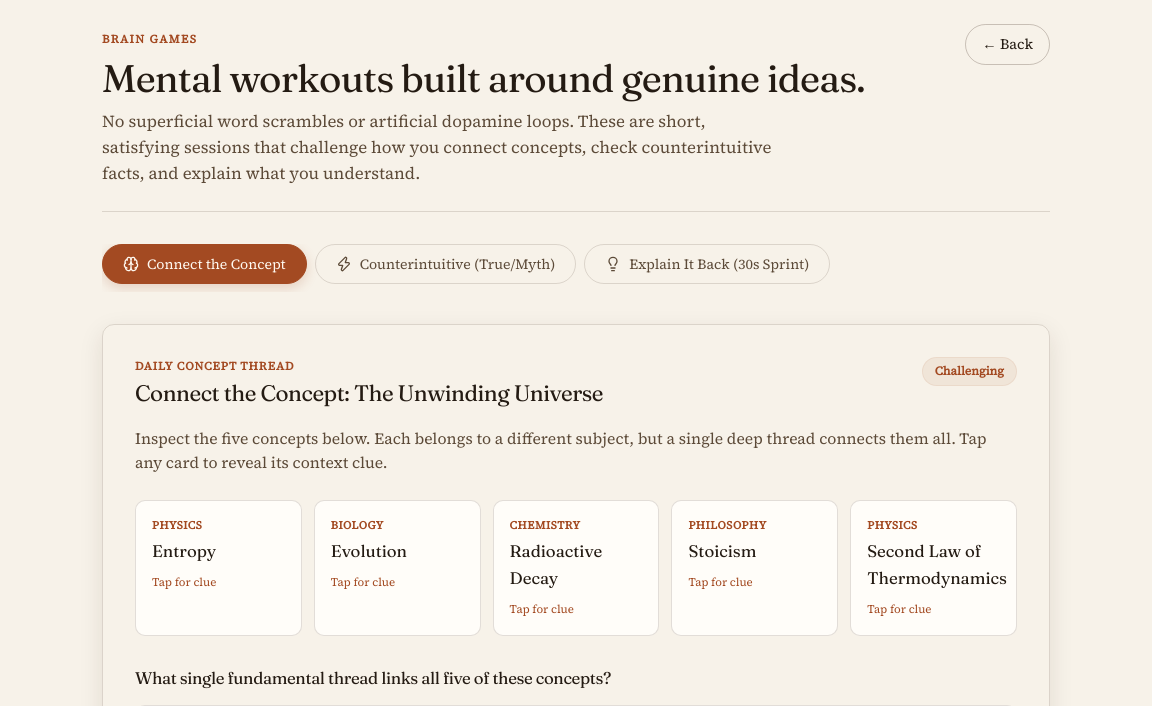
Test: Brain Games › says plainly when nothing has been written for this term yet
The image size is (1152, 706).
Click the tab "Explain It Back (30s Sprint)": (707, 264) [584,244,830,284]
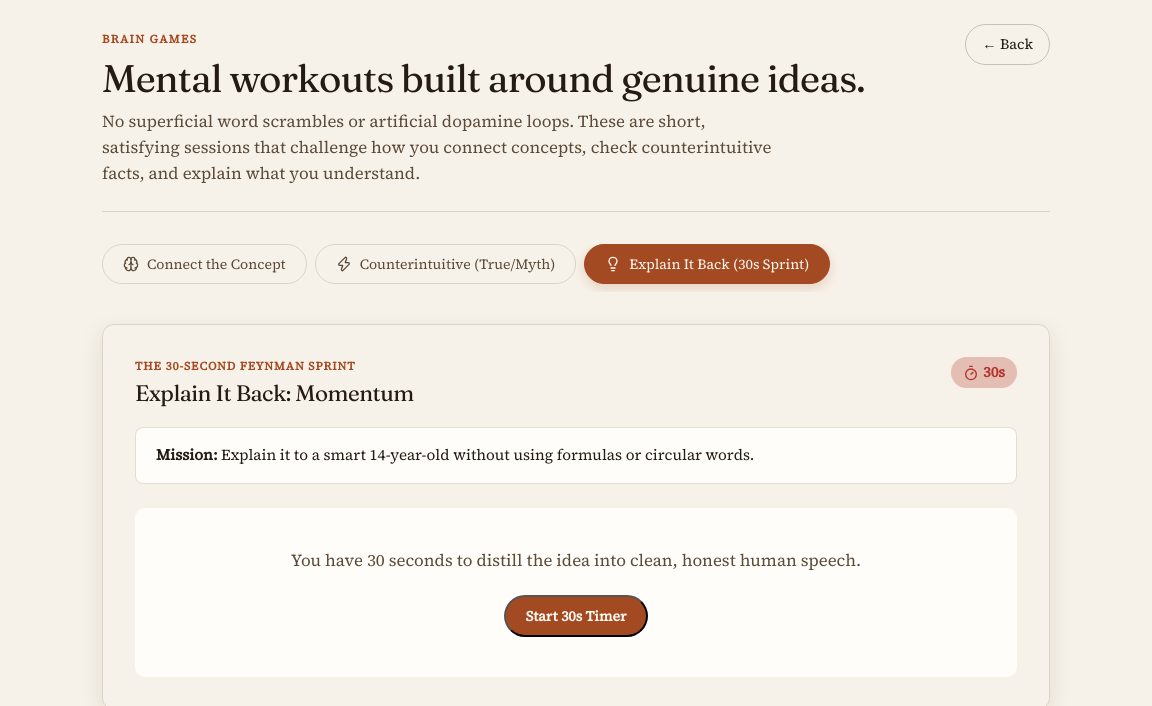
Click the button "Start 30s Timer": (576, 616) [504,595,648,637]
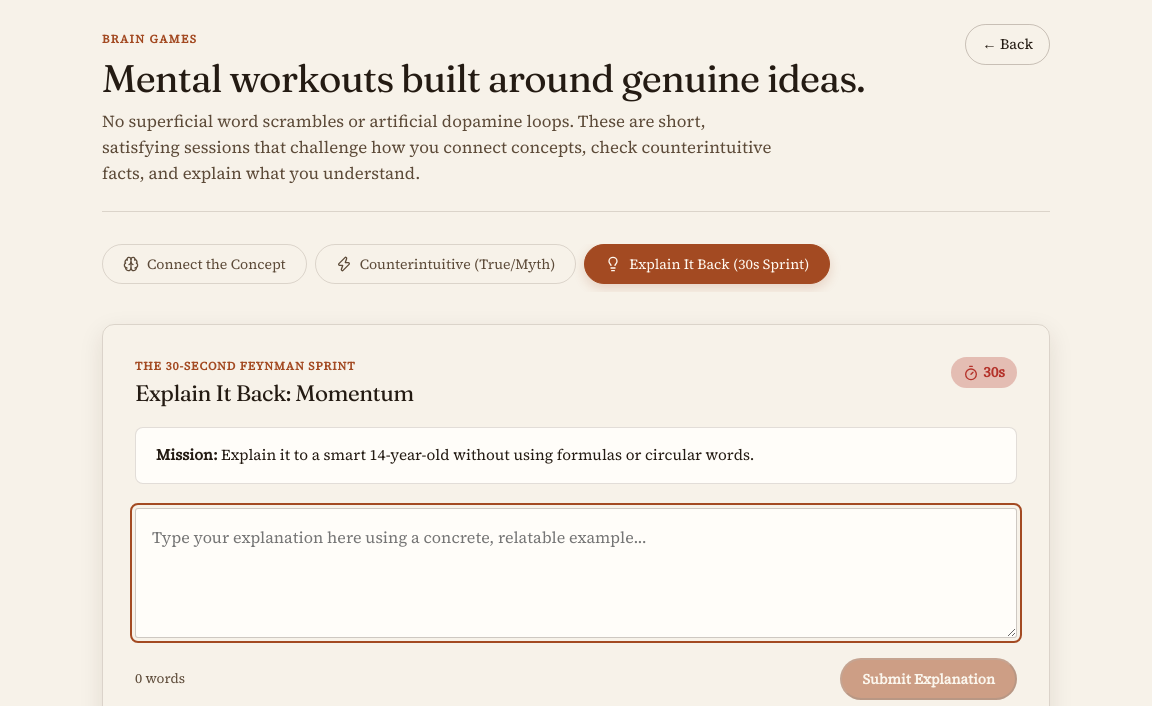
Replace the text in the text box named "your concept explanation" with "A first attempt at explaining this one in plain words.": (576, 573) [135,508,1017,638]
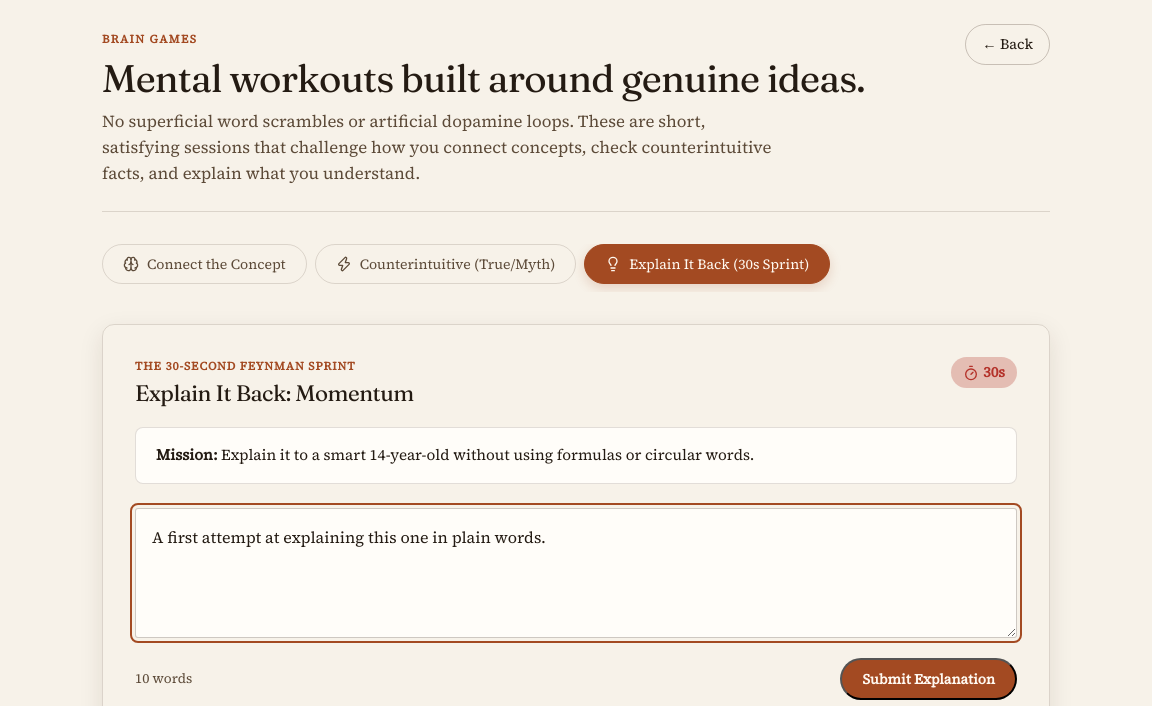
Click the button "Submit Explanation": (929, 679) [840,658,1017,700]
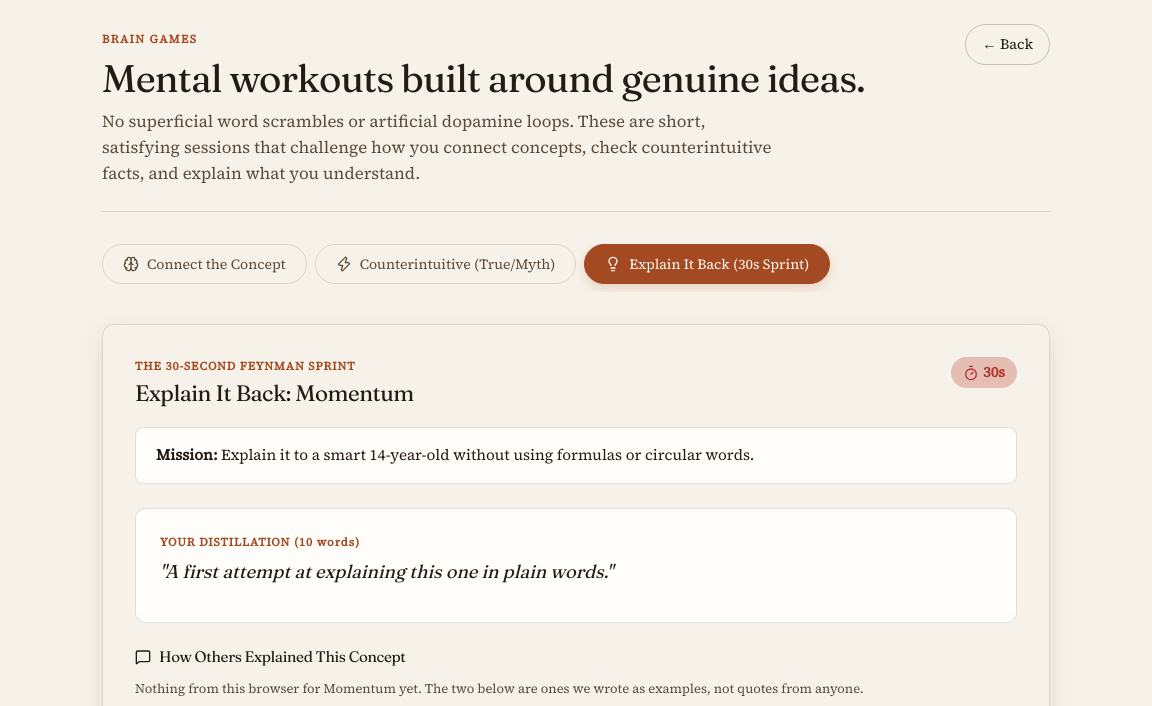
Now the text "Nothing from this browser for" is shown, box [135,680,324,697]
